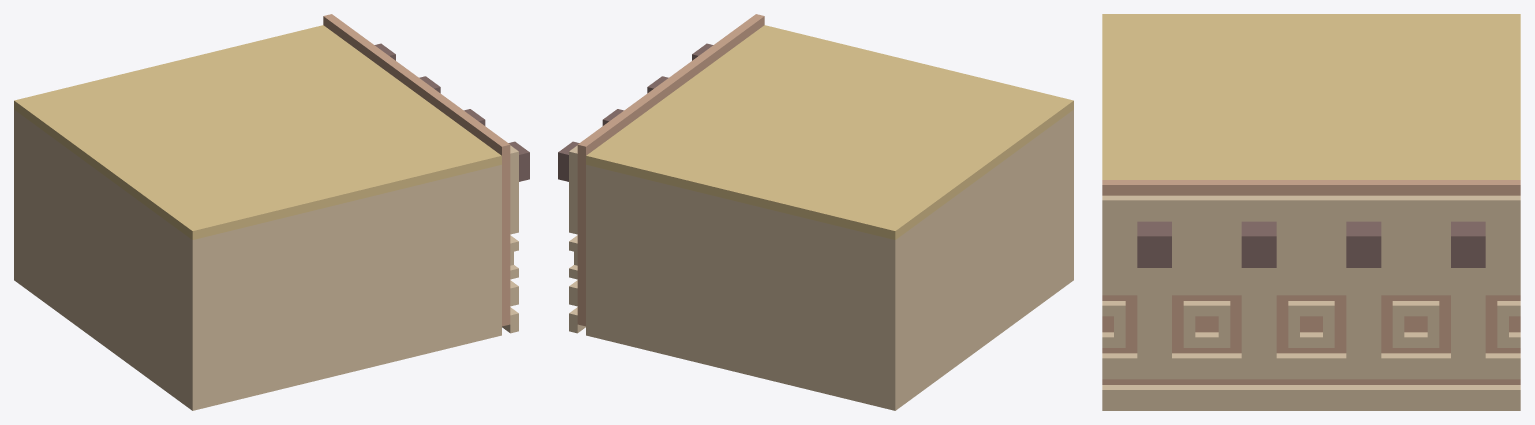
Rendered from BS_Block_Base_Side.fbx.
3 renders of one model, left to right at view 1: azimuth 30°, elevation 25°; view 2: azimuth 150°, elevation 25°; view 3: azimuth 270°, elevation 25°, orthographic. The views are drawn at different scales.
Parts seen in each view (by area): view 1: BS_Block_Base_Side; view 2: BS_Block_Base_Side; view 3: BS_Block_Base_Side.
Part boxes in pixels (bbox=[...]): BS_Block_Base_Side: bbox=[14, 14, 529, 410]; BS_Block_Base_Side: bbox=[558, 14, 1073, 410]; BS_Block_Base_Side: bbox=[1102, 14, 1520, 410].
Bounding box in the file's own units: 102 × 90 × 52.5.
